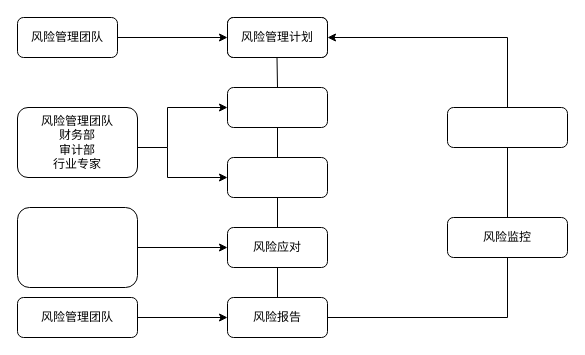
Image size: 585x355. Some labels were removed from this diagram. Each missing label, with the centre of its shape:
各系统负责人 运维负责人 风险管理专员 项目经理: [77,247]
调整管理计划: [507,127]
风险评估: [277,177]
风险识别: [277,107]
